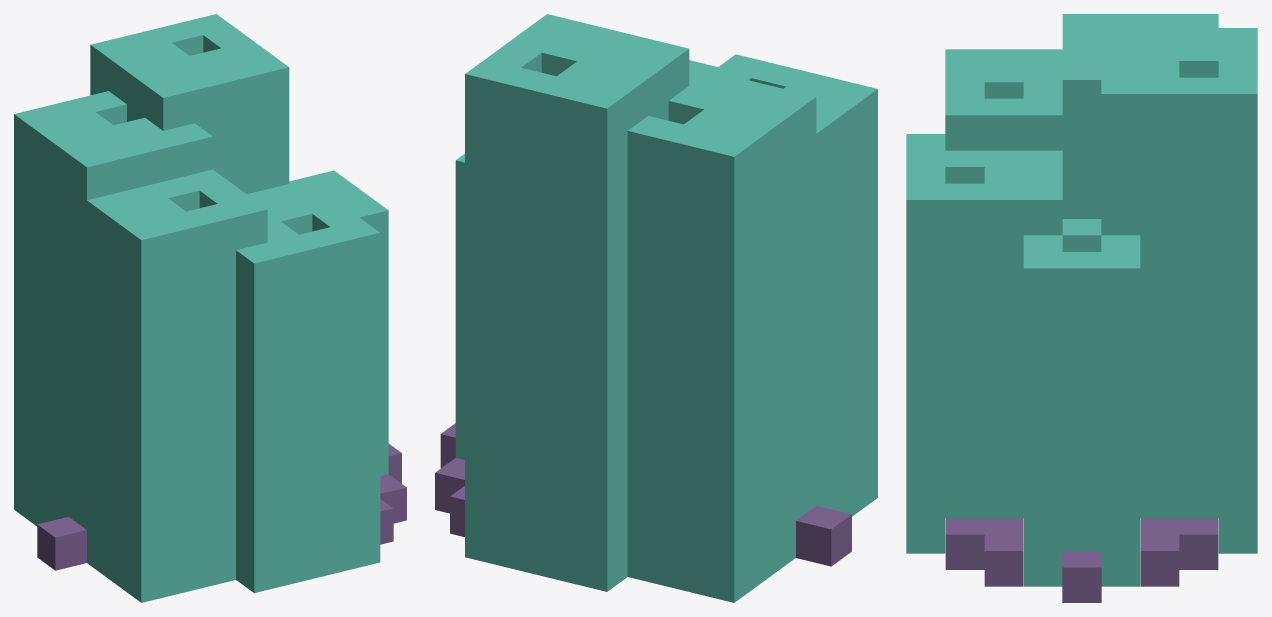
Rendered from alien-biosphere-tube-reeds-013bd2f7__22695.glb.
3 views of the same model, side by side, from view 1: azimuth 30°, elevation 25°; view 2: azimuth 150°, elevation 25°; view 3: azimuth 270°, elevation 25° (orthographic). The views are drawn at different scales.
Parts seen in each view (by area): view 1: tube-reeds; view 2: tube-reeds; view 3: tube-reeds.
Boxes of the visible parts, x1=… form: tube-reeds: x1=14, y1=14, x2=406, y2=602; tube-reeds: x1=435, y1=14, x2=877, y2=602; tube-reeds: x1=906, y1=14, x2=1257, y2=602.
Size of the model in its own units: 1.43 by 1.82 by 1.17.
